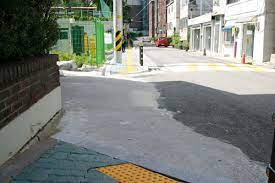guide_blocks: (96, 162, 184, 183)
